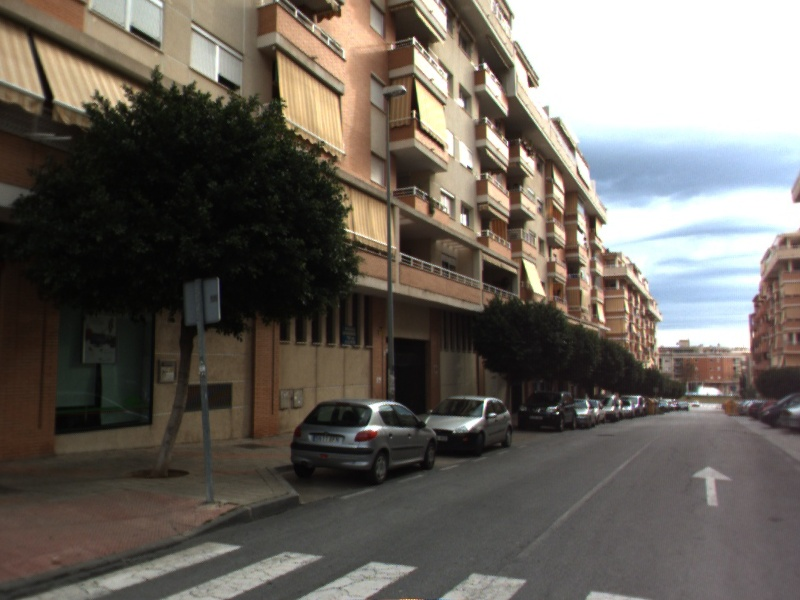STRAIGHT: (689, 464, 735, 508)
